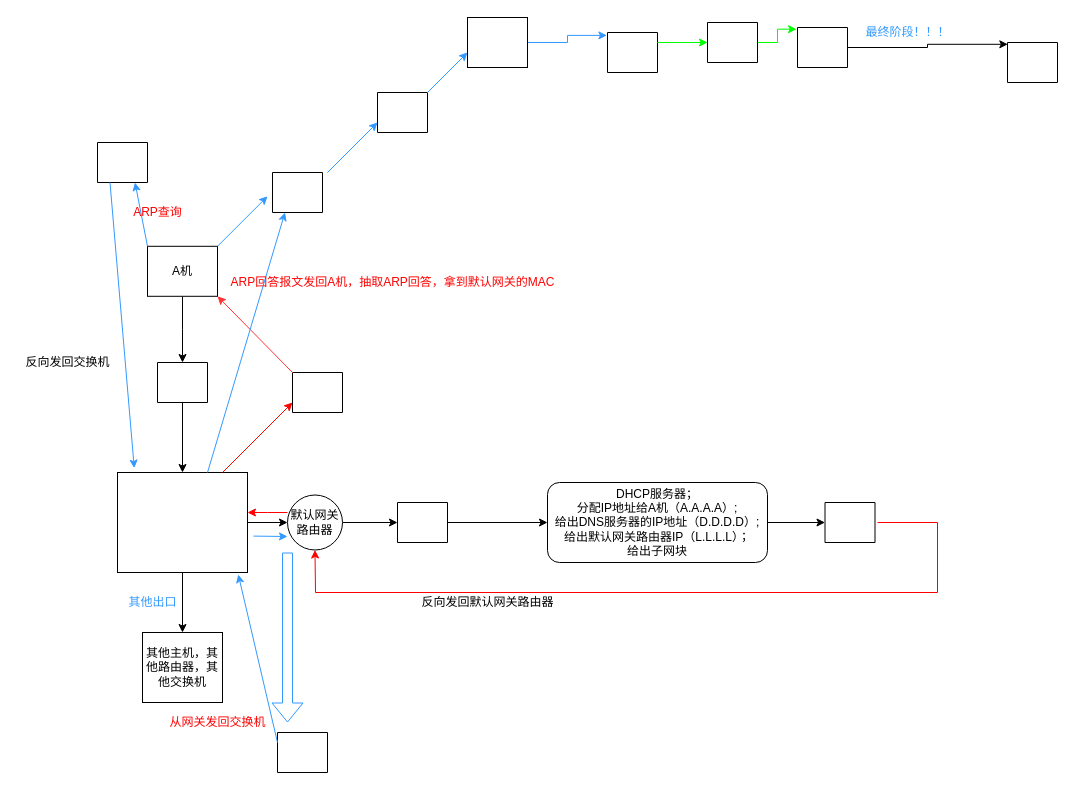
Some shapes in this 1075 by 790 pixel diagram are drawn without their labels. The centre of each missing label's shape, as x and y in pixels:
"DNS服务器" goes at point 497,42.
"交换机； 在交换机内部广播以太网帧到全部交换机出口，而路由器与其中一个出口相连" goes at point 182,522.
